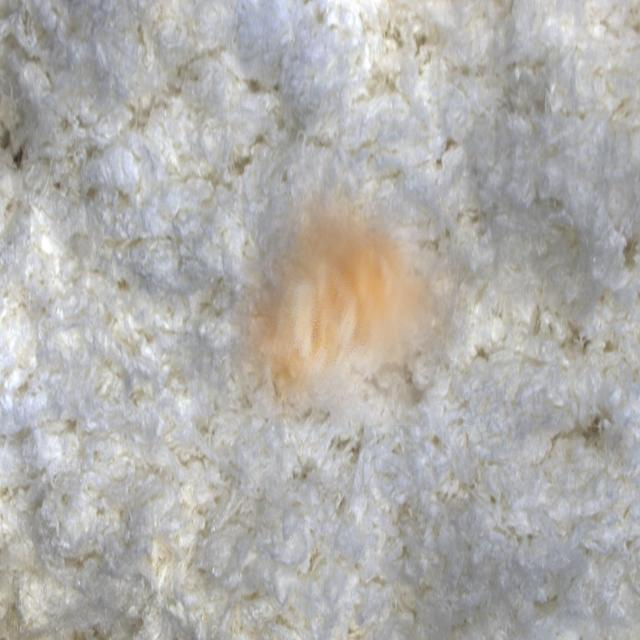dust: (230, 158, 471, 425)
